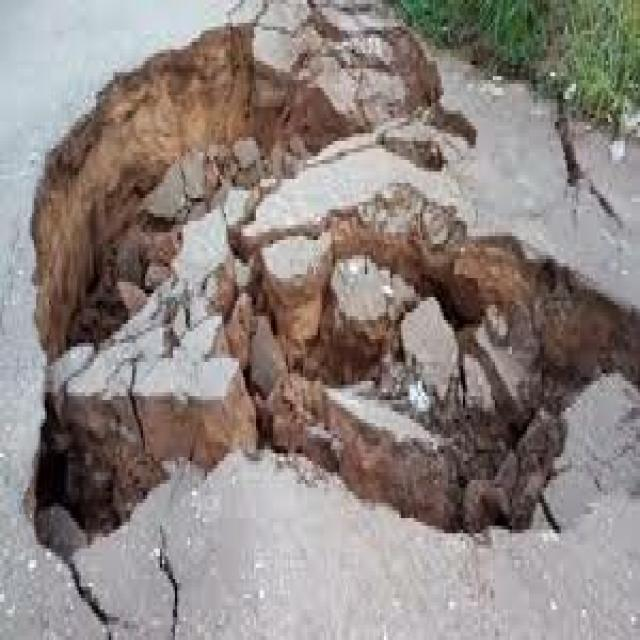Pothole: (17, 38, 640, 587)
